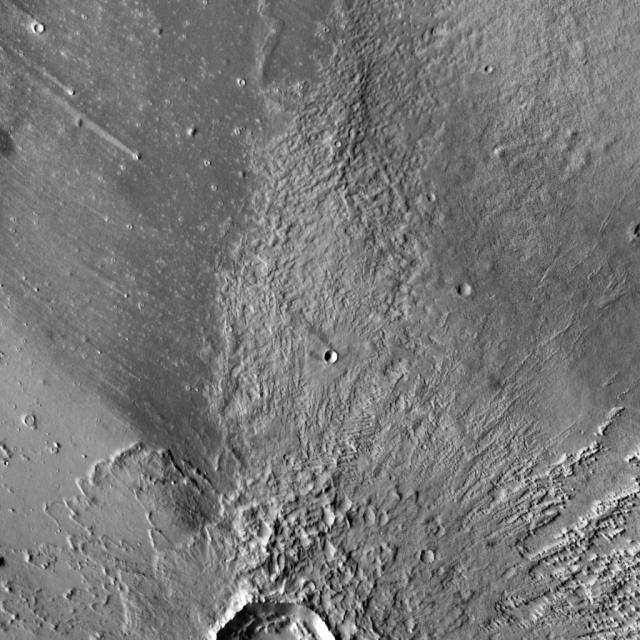crater: (463, 287, 478, 301), (429, 553, 443, 567), (328, 354, 341, 367), (40, 26, 51, 36), (31, 418, 40, 428), (490, 67, 498, 75), (334, 137, 341, 144)
